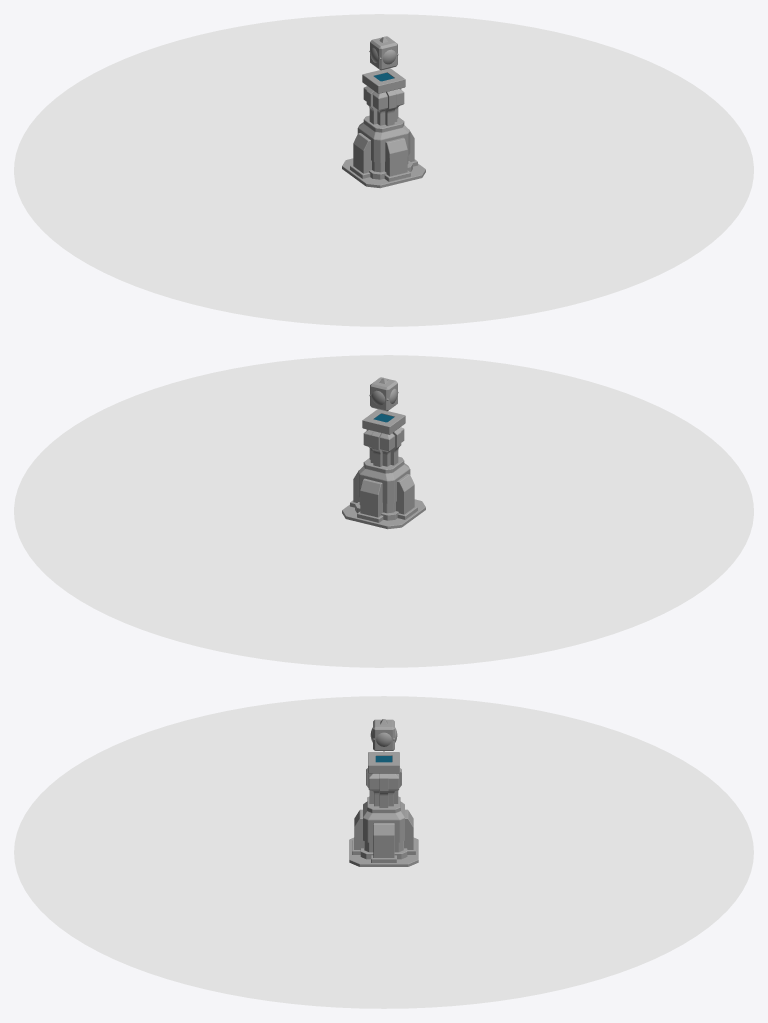
File: Relique.fbx
The picture shows the model from 3 angles, top to bottom: view 1: azimuth 30°, elevation 25°; view 2: azimuth 150°, elevation 25°; view 3: azimuth 270°, elevation 25°; orthographic projection.
Visible parts, largest first — view 1: Round_Puse, Round_Static, Relique, Relique_Stone_Square; view 2: Round_Puse, Round_Static, Relique, Relique_Stone_Square; view 3: Round_Puse, Round_Static, Relique.
Part boxes in pixels (x1,y1,x2,y2): Round_Puse: [14, 14, 753, 326]; Round_Static: [14, 14, 753, 326]; Relique: [342, 68, 425, 188]; Relique_Stone_Square: [370, 36, 397, 70]; Round_Puse: [14, 355, 753, 667]; Round_Static: [14, 355, 753, 667]; Relique: [342, 409, 425, 529]; Relique_Stone_Square: [370, 377, 397, 411]; Round_Puse: [14, 696, 752, 1008]; Round_Static: [14, 696, 753, 1008]; Relique: [349, 752, 418, 866].
Size of the model in its own units: 10.93 by 2.17 by 10.93.
Materials: 4 (1 with a texture image).
